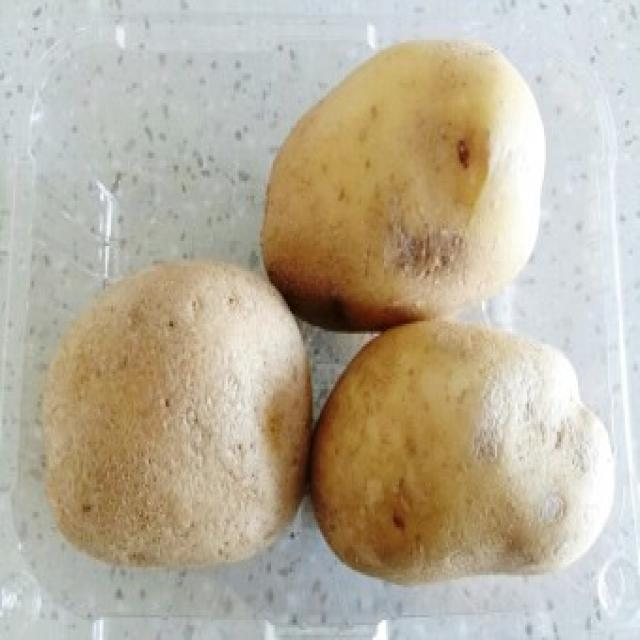potato: (41, 252, 324, 571), (310, 304, 618, 586), (254, 40, 547, 336)
